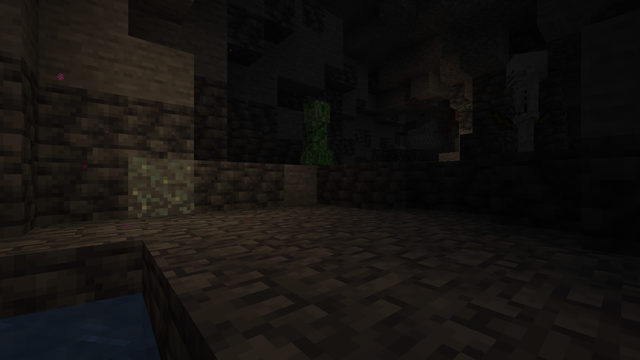creepers: (302, 95, 334, 166)
squelettes: (508, 45, 555, 137)
